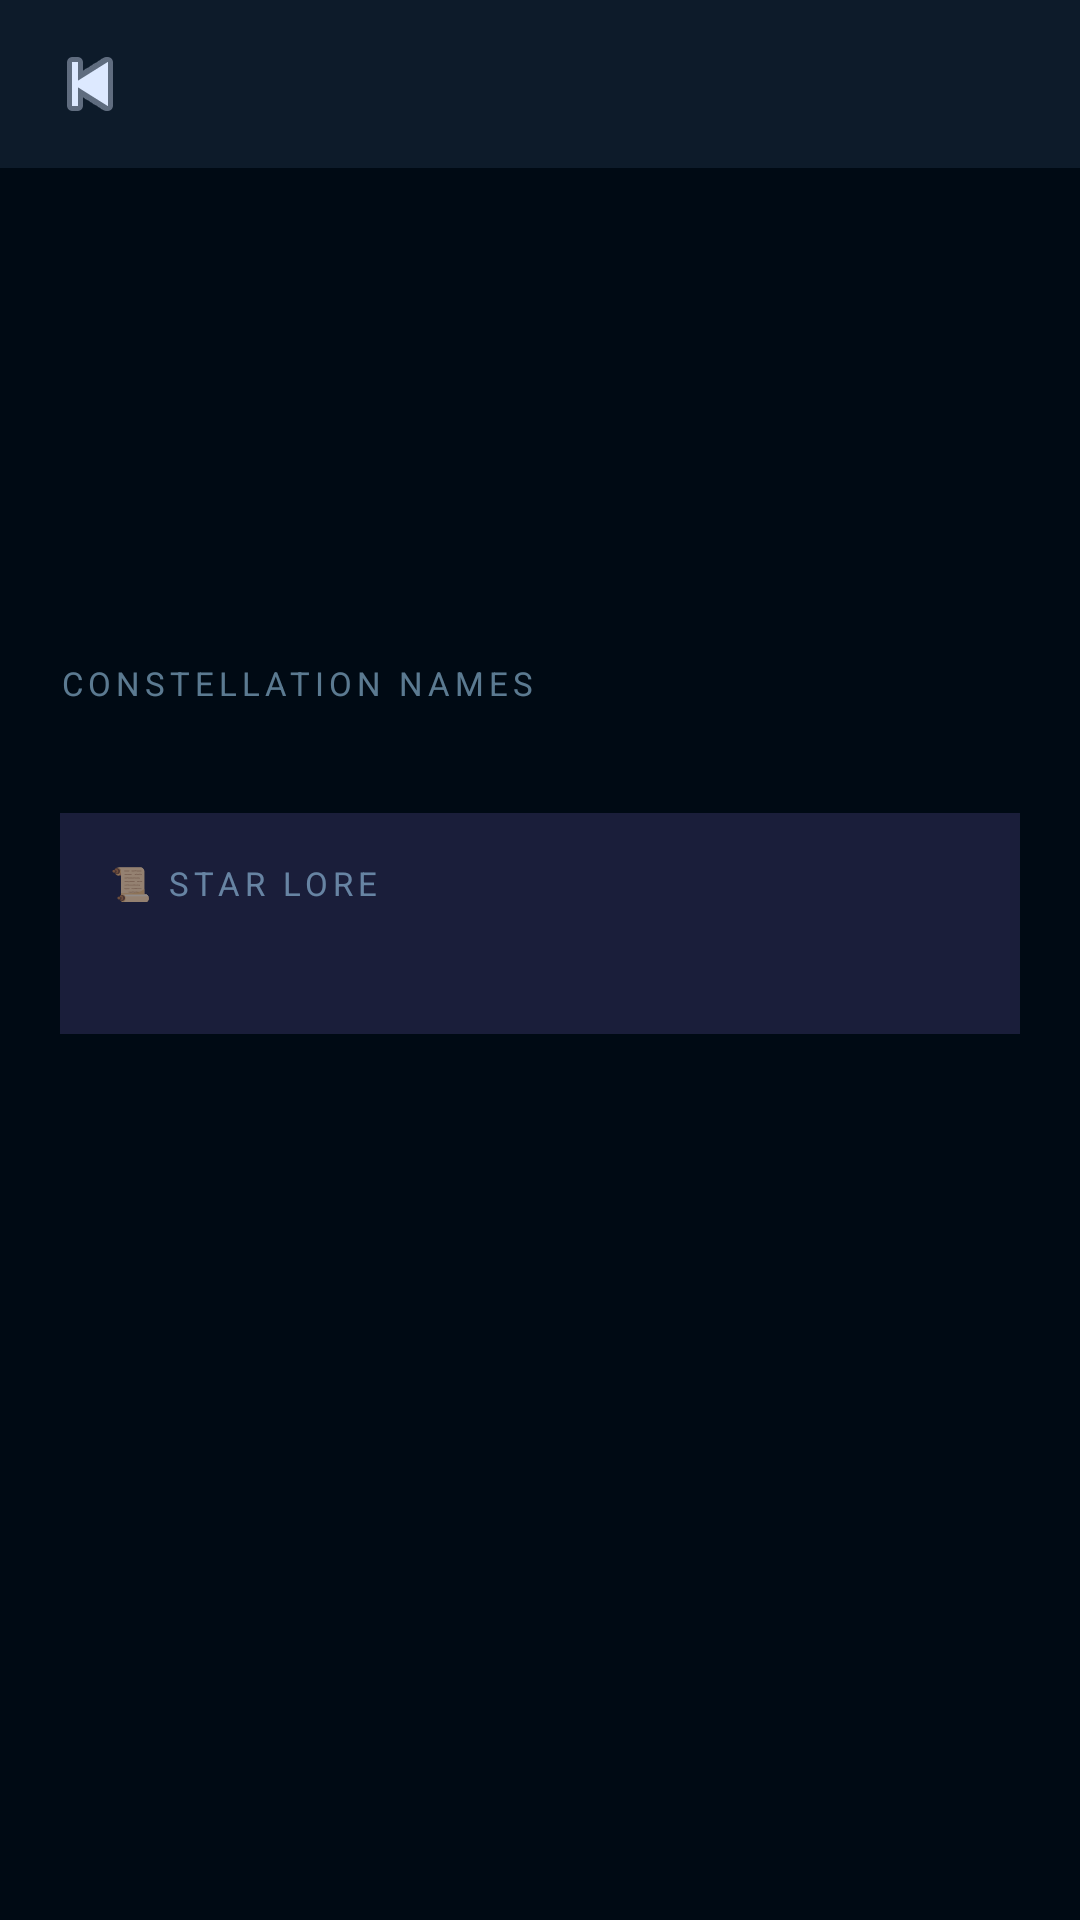

Icon bounding boxes for this 1080×1920 phone screenshot, format (x1, y1, x2, y2):
Back: (67, 57, 113, 111)
